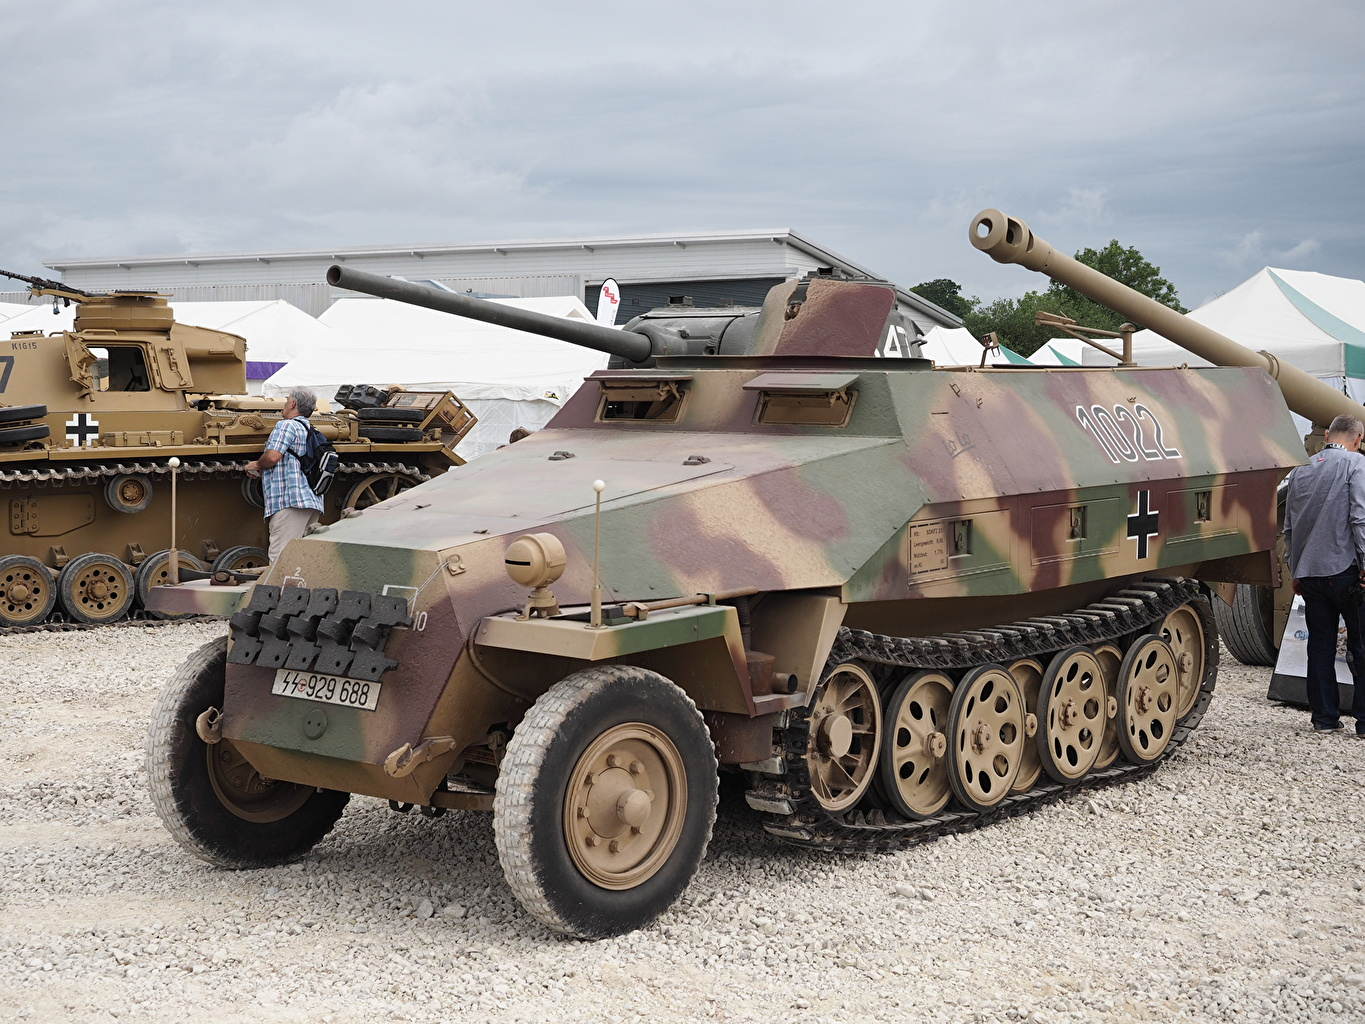btr: (170, 243, 1307, 936)
human: (1282, 418, 1365, 738), (248, 384, 347, 600)
tank: (1, 248, 494, 641)
